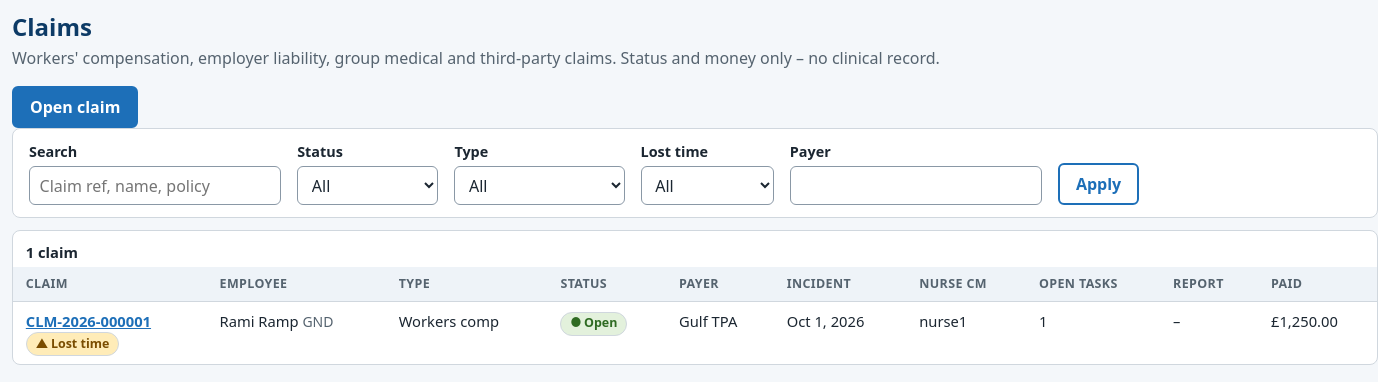
claims lists › ClaimList filters by lost time
Step 1. Select "Lost time" in the dropdown labelled "Lost time" → (707, 186), box x1=641 y1=166 x2=774 y2=205
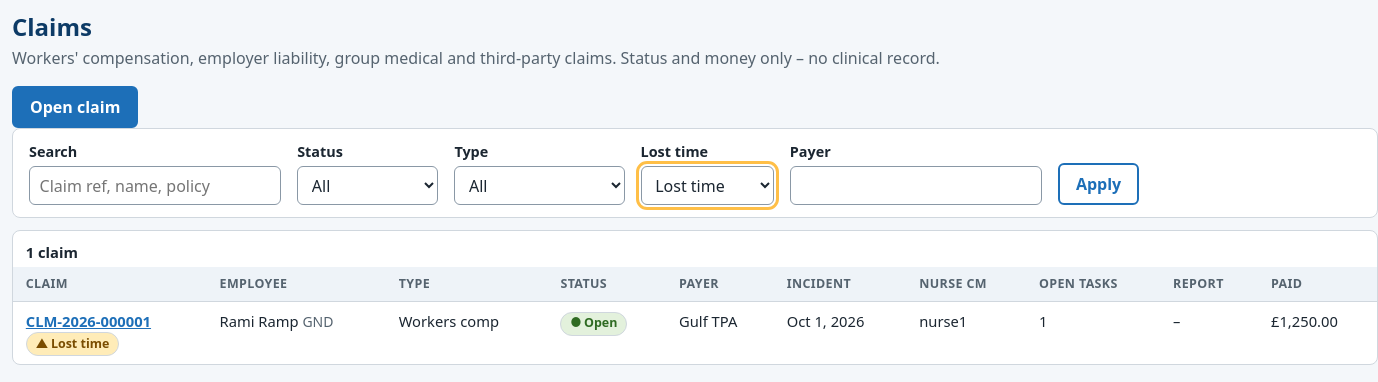
Step 2. Click the button "Apply" → (1099, 184), box x1=1058 y1=163 x2=1139 y2=205
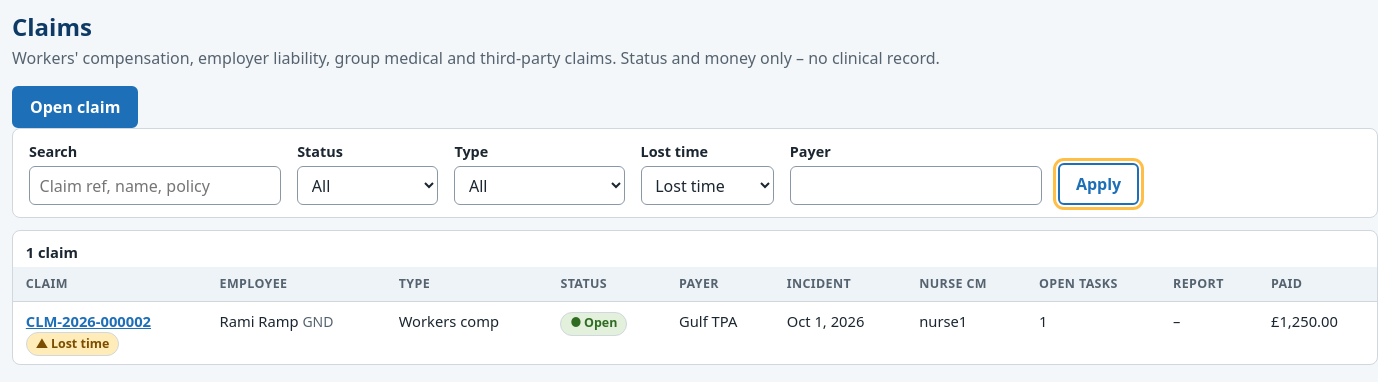
Now the link "CLM-2026-000002" is shown, box x1=26 y1=311 x2=151 y2=331
